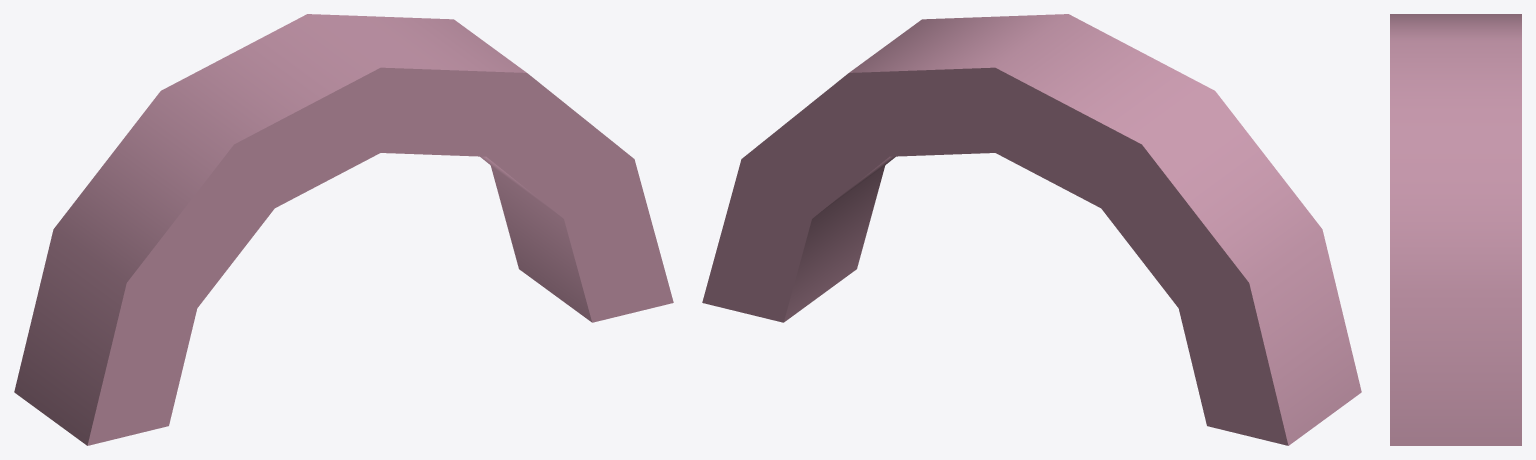
The model's file is Dinner_Table_Leg_Small.FBX.
3 renders of one model, left to right at view 1: azimuth 30°, elevation 25°; view 2: azimuth 150°, elevation 25°; view 3: azimuth 270°, elevation 25°, orthographic. The views are drawn at different scales.
Visible parts, largest first — view 1: Dinner_Table_Leg_Small; view 2: Dinner_Table_Leg_Small; view 3: Dinner_Table_Leg_Small.
Part boxes in pixels (<box>): Dinner_Table_Leg_Small: <box>14,14,673,445</box>; Dinner_Table_Leg_Small: <box>702,14,1361,445</box>; Dinner_Table_Leg_Small: <box>1390,14,1521,445</box>.
Size of the model in its own units: 1.92 by 0.9599 by 0.4156.
